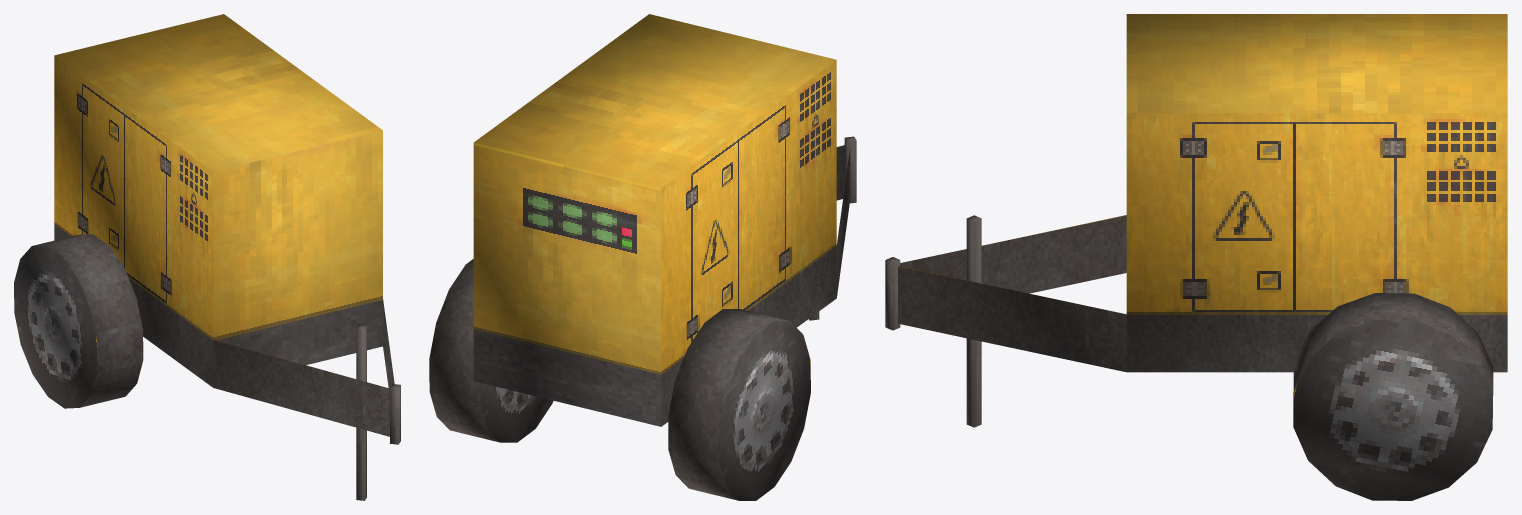
The model's file is power generator.glb.
3 views of the same model, side by side, from view 1: azimuth 30°, elevation 25°; view 2: azimuth 150°, elevation 25°; view 3: azimuth 270°, elevation 25° (orthographic). The views are drawn at different scales.
Parts seen in each view (by area): view 1: Cube; view 2: Cube; view 3: Cube.
Boxes of the visible parts, x1,y1,x2,y2 form: Cube: (14, 14, 400, 500); Cube: (429, 14, 856, 500); Cube: (885, 14, 1507, 500).
Bounding box in the file's own units: 1.43 × 1.57 × 2.45.
1 material, 1 textured.
